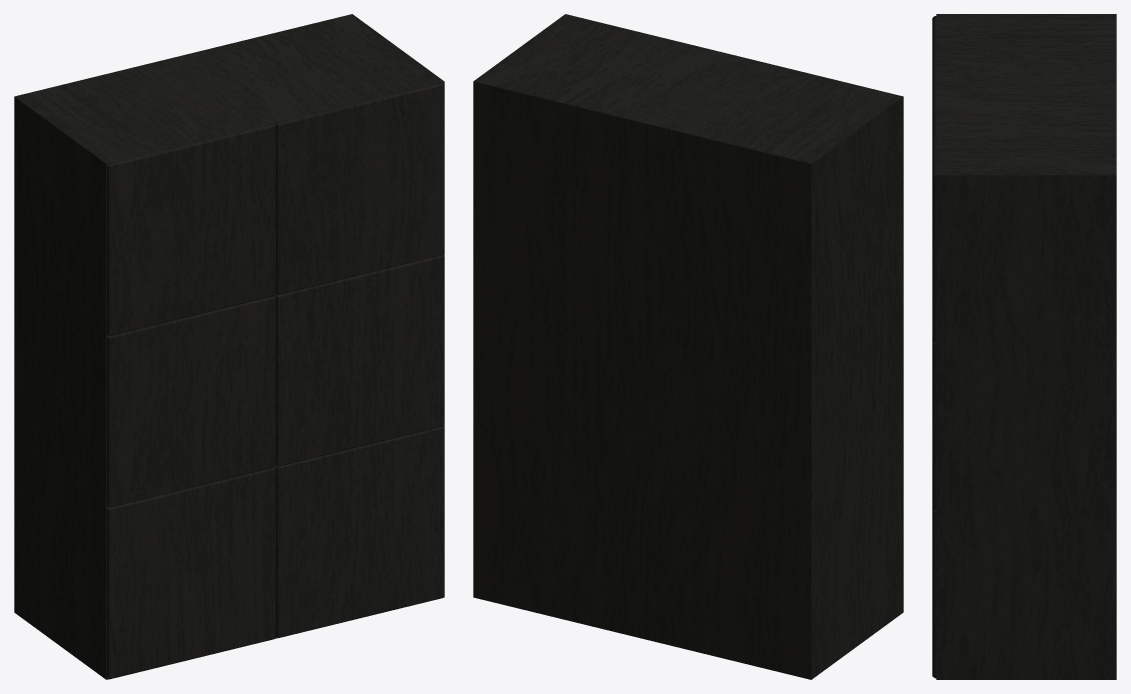
File: cupboard_001.fbx
3 views of the same model, side by side, from view 1: azimuth 30°, elevation 25°; view 2: azimuth 150°, elevation 25°; view 3: azimuth 270°, elevation 25° (orthographic). The views are drawn at different scales.
Visible parts, largest first — view 1: cupboard_001; view 2: cupboard_001; view 3: cupboard_001.
Boxes of the visible parts, x1,y1,x2,y2 form: cupboard_001: (14,14,444,679); cupboard_001: (473,14,903,679); cupboard_001: (932,14,1116,679).
Bounding box in the file's own units: 192 × 92.64 × 280.
